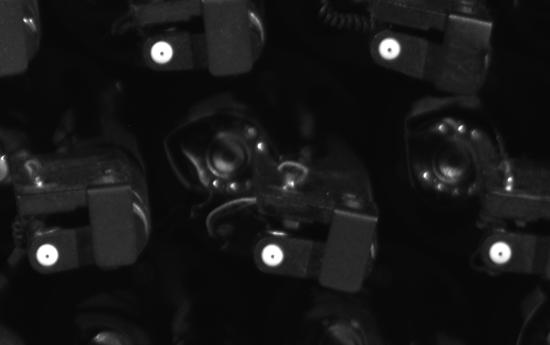fiber: (481, 236, 519, 268), (375, 33, 408, 65), (258, 241, 288, 274), (32, 239, 66, 268), (145, 38, 178, 67)
